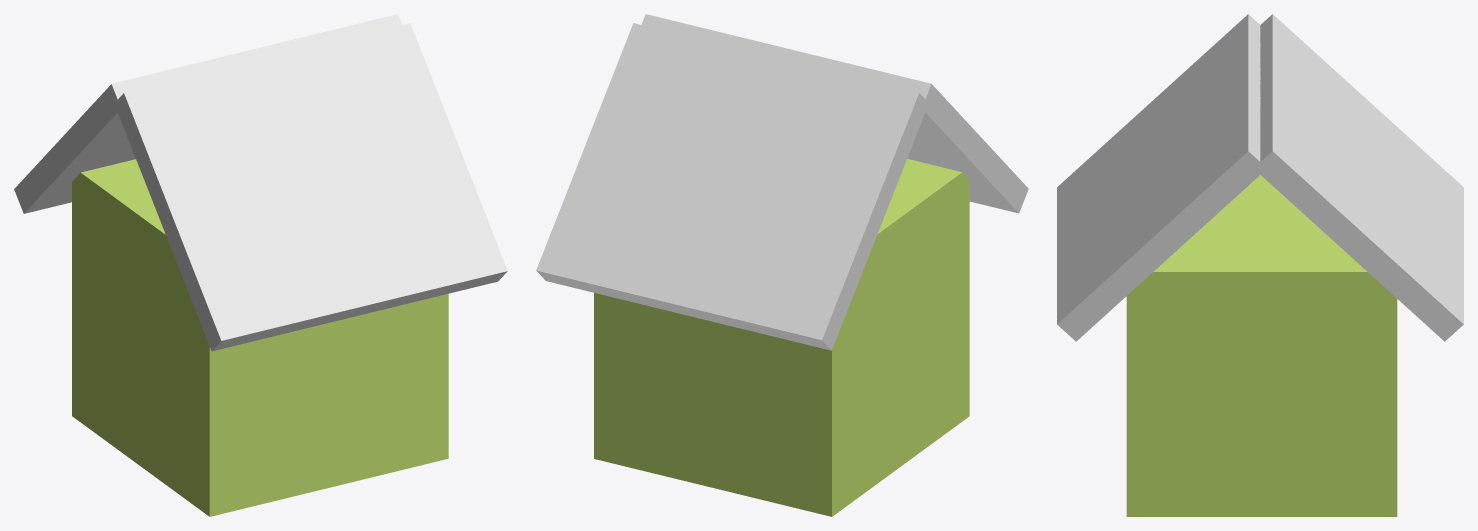
File: gltf_trial.glb
3 renders of one model, left to right at view 1: azimuth 30°, elevation 25°; view 2: azimuth 150°, elevation 25°; view 3: azimuth 270°, elevation 25°, orthographic.
Parts seen in each view (by area): view 1: Cube.002, Cube, Cube.001; view 2: Cube.001, Cube, Cube.002; view 3: Cube, Cube.001, Cube.002.
Boxes of the visible parts, box(x1,y1,x2,y2) form: Cube.002: box(115, 23, 507, 351); Cube: box(72, 159, 448, 516); Cube.001: box(14, 14, 402, 213); Cube.001: box(536, 23, 927, 350); Cube: box(594, 159, 969, 516); Cube.002: box(641, 14, 1028, 213); Cube: box(1126, 175, 1397, 516); Cube.001: box(1254, 14, 1463, 341); Cube.002: box(1057, 14, 1266, 341).
Size of what is drawn, in the model's own units: 2.4 by 3.08 by 3.01.
